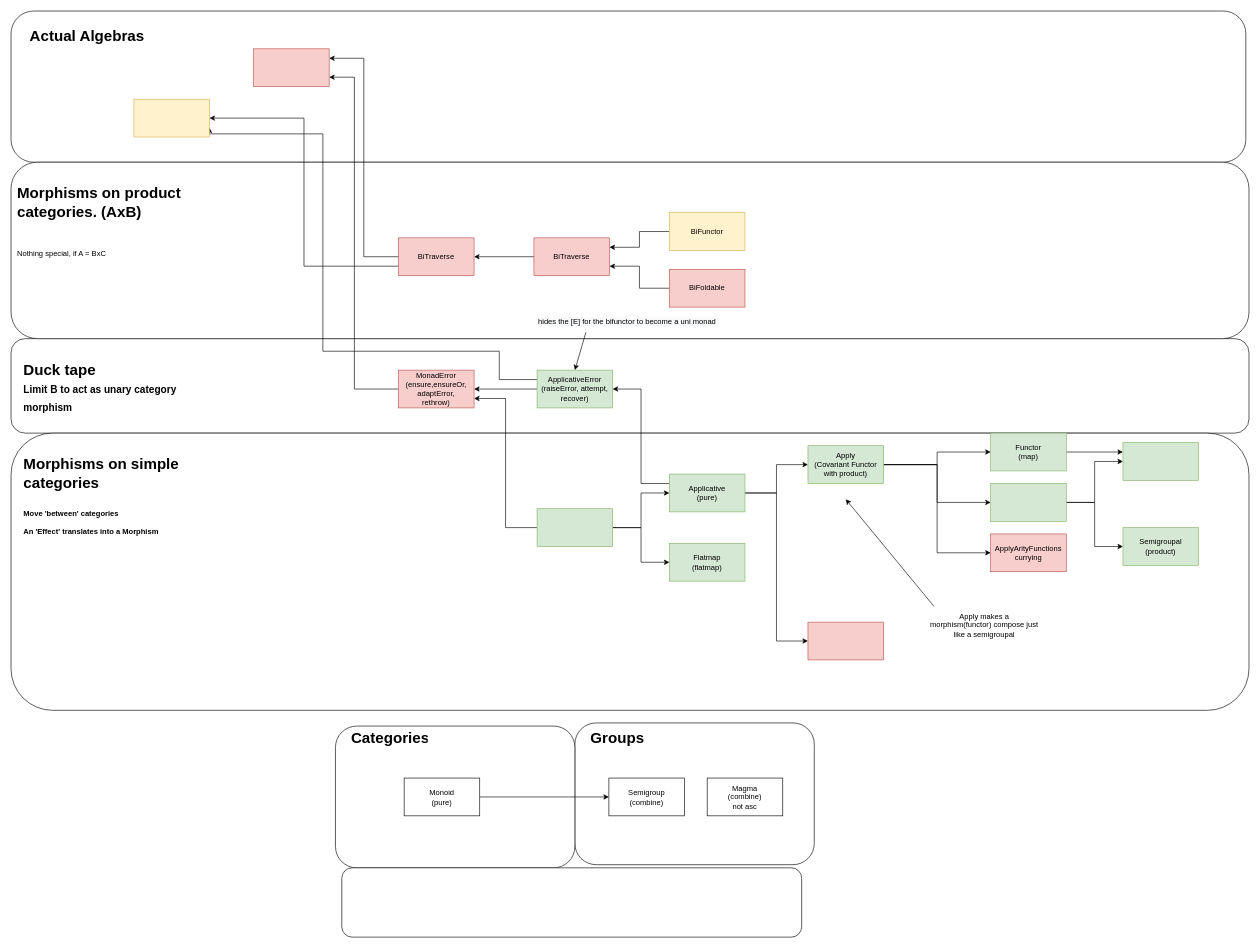
This 1260x948 diagram has some shape labels left out. Here are the shapes that lost their labels. From the top down, the centre of each, then its label:
At point 291,67: "Either[E,A]".
At point 171,118: "Validated[E,A]".
At point 1160,461: "Invariant (imap)".
At point 1028,502: "InvariantSemigroupal".
At point 574,527: "Monad (pure/flatMap)".
At point 845,640: "InvariantMonoidal".
At point 571,902: "Homomorphisms act upon categories".
